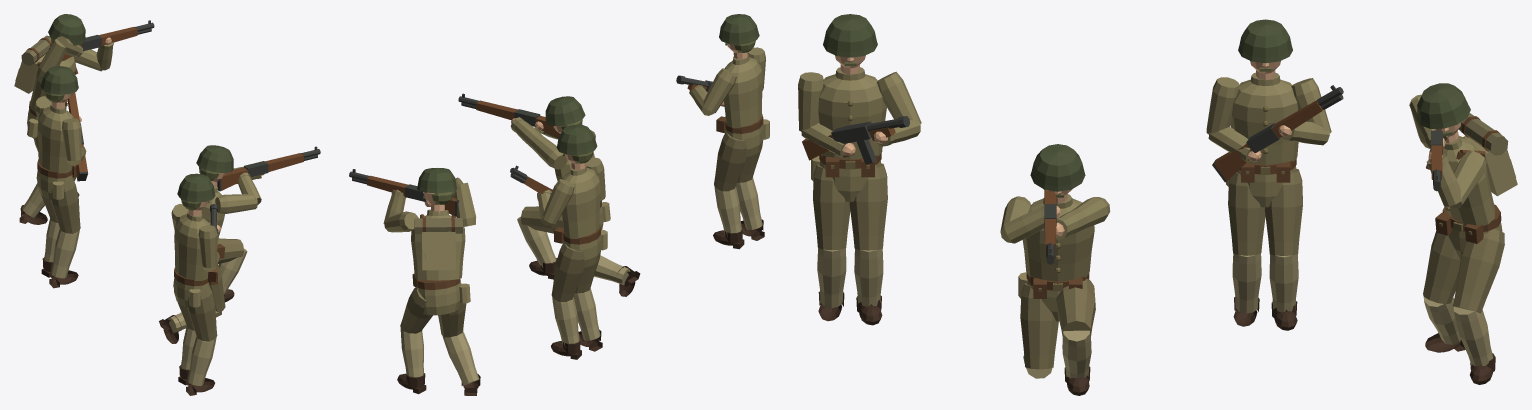
Rendered from us_riflemen.obj.
3 views of the same model, side by side, from view 1: azimuth 30°, elevation 25°; view 2: azimuth 150°, elevation 25°; view 3: azimuth 270°, elevation 25° (orthographic). The views are drawn at different scales.
Bounding box in the file's own units: 1.97 × 2 × 4.03.
